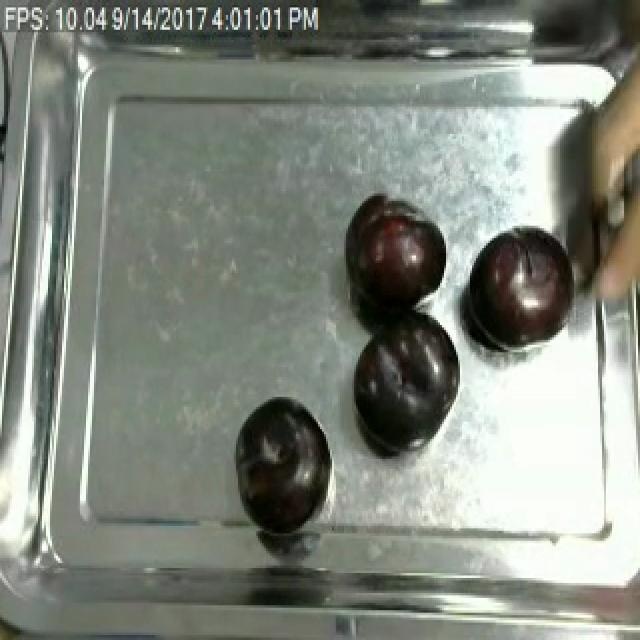Fruit: (344, 305, 466, 462), (458, 218, 584, 355), (340, 188, 454, 318), (230, 389, 332, 531)
